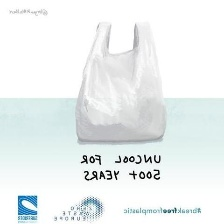plastic_bag: (71, 18, 170, 145)
